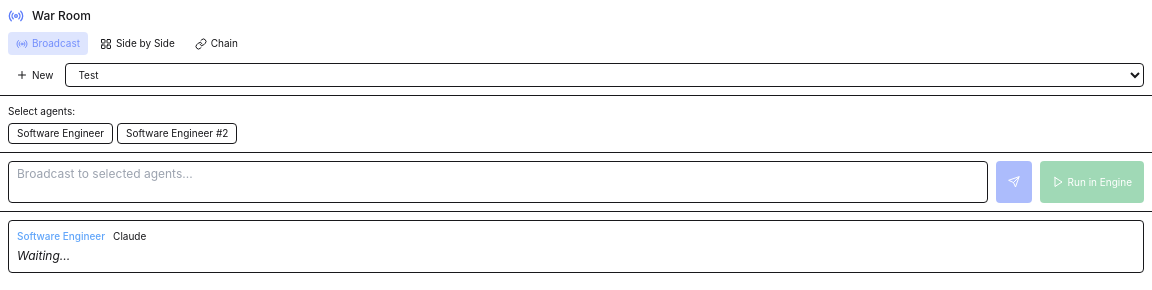
Scenario: WarRoom › side-by-side view › shows truncated prompt in side-by-side header
Step 1. Click the button "Side by Side" → {"x": 137, "y": 44}, box [92, 32, 183, 55]
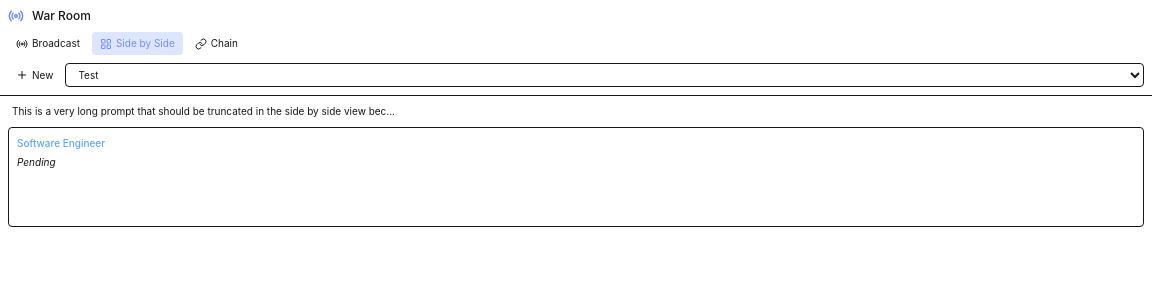
Expected: the text "truncated in the side" is shown, [12, 105, 386, 117]
